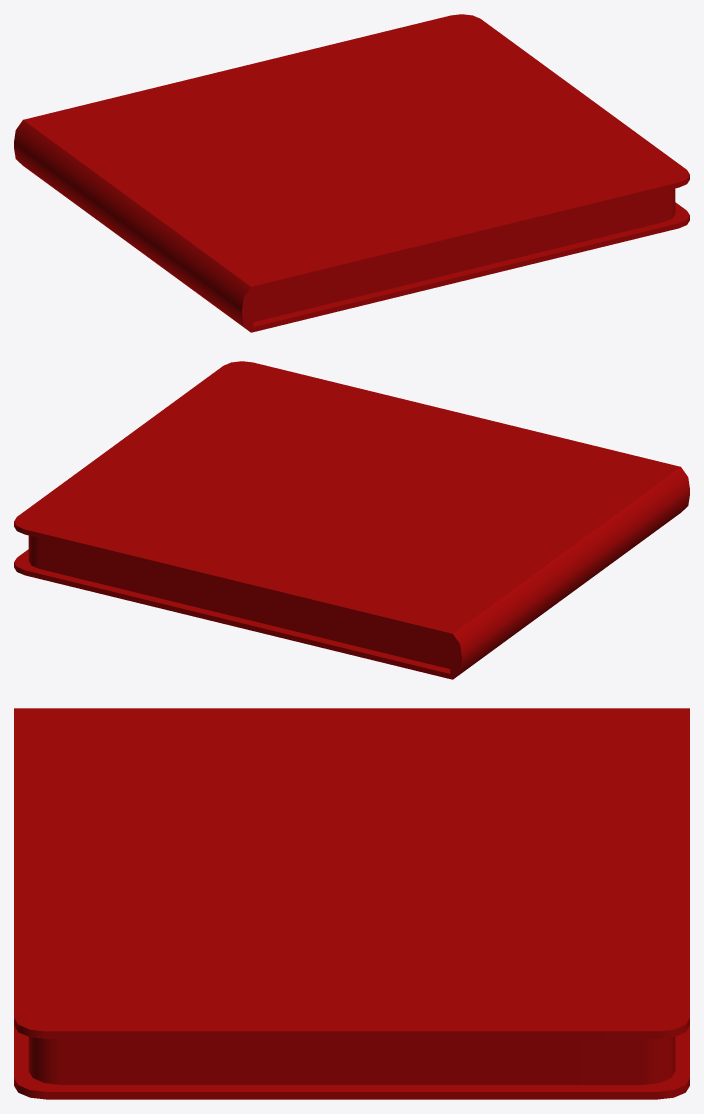
Rendered from HFM_low.fbx.
3 views of the same model, one above another, from view 1: azimuth 30°, elevation 25°; view 2: azimuth 150°, elevation 25°; view 3: azimuth 270°, elevation 25° (orthographic). The views are drawn at different scales.
Visible parts, largest first — view 1: HFM_high3; view 2: HFM_high3; view 3: HFM_high3.
Part boxes in pixels (left/top/right/bottom): HFM_high3: left=14, top=14, right=689, bottom=332; HFM_high3: left=14, top=361, right=689, bottom=679; HFM_high3: left=14, top=708, right=689, bottom=1099.
Size of the model in its own units: 21.54 by 2.07 by 18.67.
